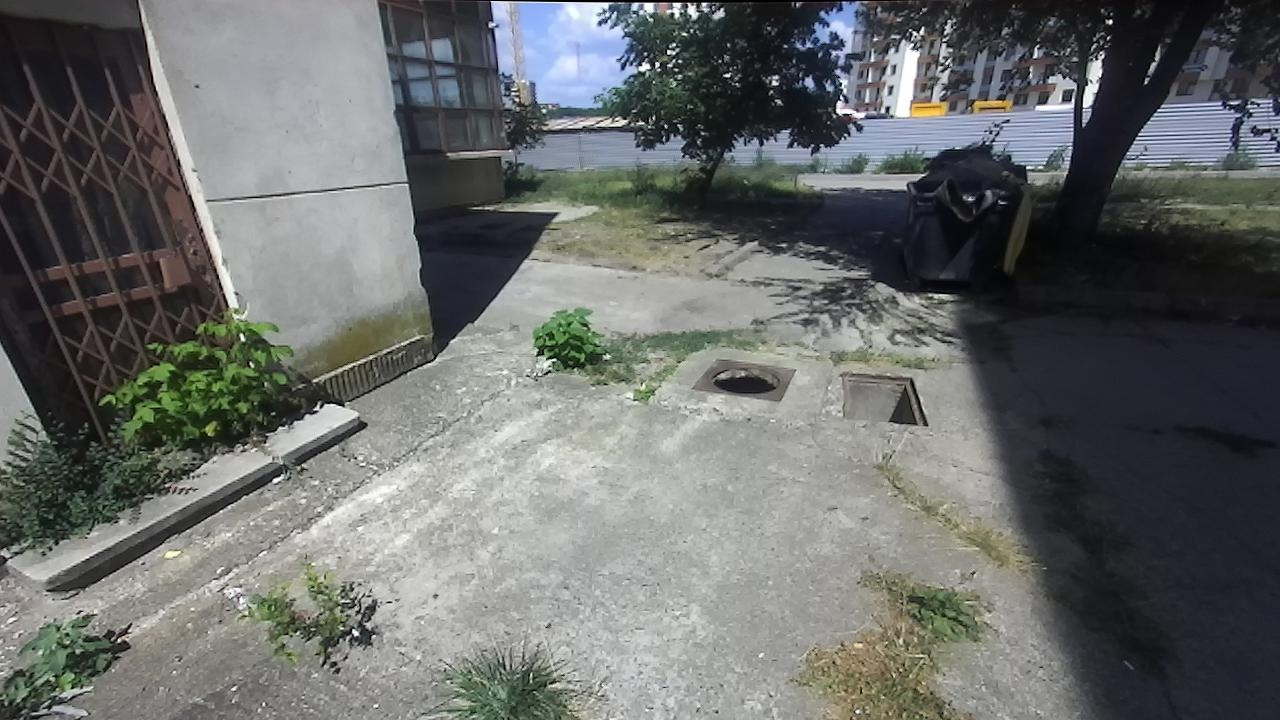drain: (838, 370, 931, 430), (707, 362, 784, 397)
